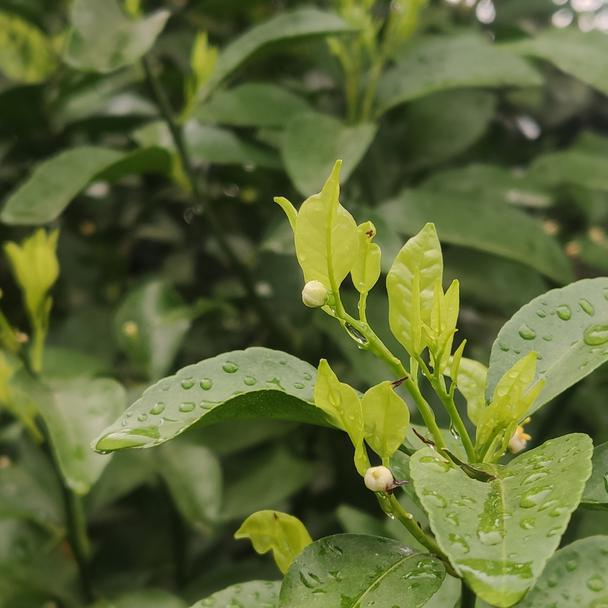shoot: (284, 178, 441, 409), (410, 284, 479, 410)
